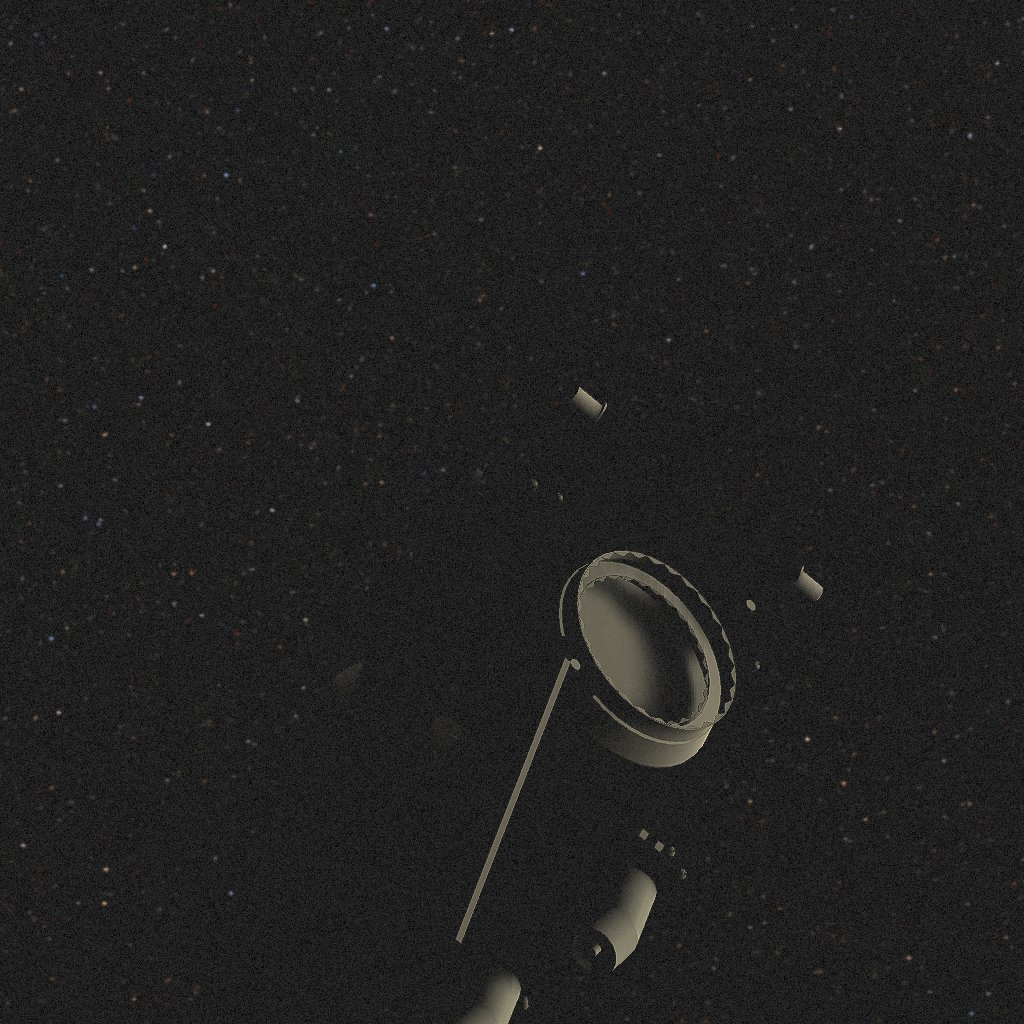proba_3_csc: (239, 374, 850, 1002)
